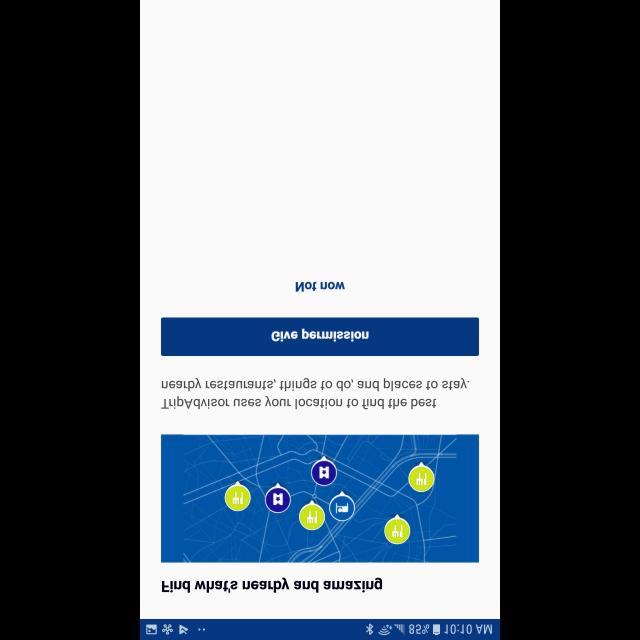image: (161, 434, 479, 562)
text: (161, 378, 469, 410), (162, 577, 382, 593), (295, 280, 345, 292)
textbutton: (161, 316, 479, 356)
uppertaskbar: (140, 618, 500, 640)
